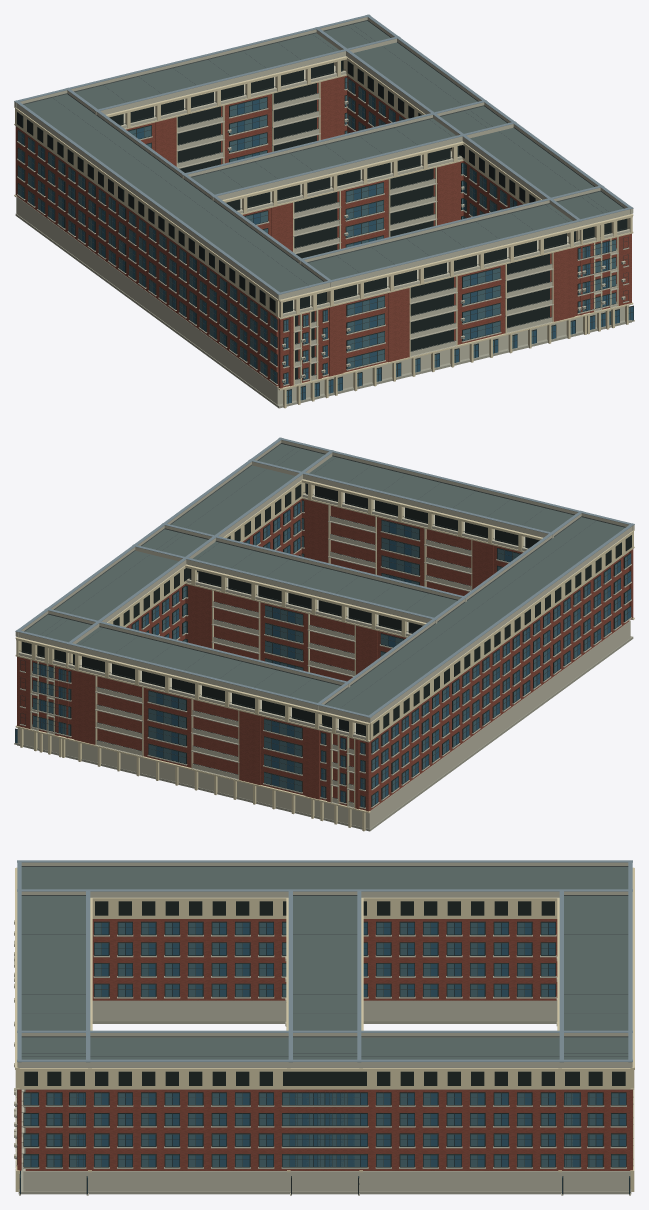
3 views of the same model, one above another, from view 1: azimuth 30°, elevation 25°; view 2: azimuth 150°, elevation 25°; view 3: azimuth 270°, elevation 25° (orthographic). The views are drawn at different scales.
Visible parts, largest first — view 1: WestWing_SetBackFlatRoofFinish, WestWing_SetBackBrickCore, EastWing_SetBackFlatRoofFinish, WestWing_SideRoom_GlassPane, NorthWing_SetBackFlatRoofFinish, MiddleWing_SetBackFlatRoofFinish, SouthWing_SetBackFlatRoofFinish, WestWing_PaleStoneGroundBody, SouthWing_BroadSolidBrickPiers, SouthWing_DeepLoggiaRearShadow, MiddleWing_DeepLoggiaRearShadow, NorthWing_DeepLoggiaRearShadow (+62 smaller); view 2: WestWing_SetBackFlatRoofFinish, WestWing_SetBackBrickCore, EastWing_SetBackFlatRoofFinish, WestWing_SideRoom_GlassPane, MiddleWing_SetBackFlatRoofFinish, NorthWing_SetBackFlatRoofFinish, SouthWing_SetBackFlatRoofFinish, WestWing_PaleStoneGroundBody, NorthWing_BroadSolidBrickPiers, NorthWing_SetBackBrickCore, NorthWing_PaleStoneGroundBody, SouthWing_SetBackBrickCore (+60 smaller); view 3: EastWing_SetBackBrickCore, WestWing_SetBackBrickCore, EastWing_SideRoom_GlassPane, WestWing_SetBackFlatRoofFinish, EastWing_SetBackFlatRoofFinish, WestWing_SideRoom_GlassPane, EastWing_PaleStoneGroundBody, SouthWing_SetBackFlatRoofFinish, MiddleWing_SetBackFlatRoofFinish, NorthWing_SetBackFlatRoofFinish, WestWing_PaleStoneGroundBody, EastWing_UpperSideIvoryWall (+50 smaller).
Boxes of the visible parts, x1,y1,x2,y2 form: WestWing_SetBackFlatRoofFinish: [24, 94, 323, 292]; WestWing_SetBackBrickCore: [16, 127, 315, 386]; EastWing_SetBackFlatRoofFinish: [325, 21, 622, 218]; WestWing_SideRoom_GlassPane: [18, 131, 276, 382]; NorthWing_SetBackFlatRoofFinish: [75, 21, 390, 109]; MiddleWing_SetBackFlatRoofFinish: [192, 106, 506, 194]; SouthWing_SetBackFlatRoofFinish: [308, 193, 623, 279]; WestWing_PaleStoneGroundBody: [16, 196, 329, 404]; SouthWing_BroadSolidBrickPiers: [331, 233, 631, 375]; SouthWing_DeepLoggiaRearShadow: [410, 253, 549, 351]; MiddleWing_DeepLoggiaRearShadow: [294, 168, 433, 258]; NorthWing_DeepLoggiaRearShadow: [177, 83, 316, 172]; WestWing_SetBackFlatRoofFinish: [325, 517, 624, 715]; WestWing_SetBackBrickCore: [333, 552, 629, 810]; EastWing_SetBackFlatRoofFinish: [26, 444, 324, 641]; WestWing_SideRoom_GlassPane: [372, 554, 630, 805]; MiddleWing_SetBackFlatRoofFinish: [142, 529, 456, 617]; NorthWing_SetBackFlatRoofFinish: [25, 614, 340, 702]; SouthWing_SetBackFlatRoofFinish: [258, 444, 573, 532]; WestWing_PaleStoneGroundBody: [318, 620, 630, 828]; NorthWing_BroadSolidBrickPiers: [17, 656, 317, 798]; NorthWing_SetBackBrickCore: [97, 676, 238, 774]; NorthWing_PaleStoneGroundBody: [17, 728, 317, 816]; SouthWing_SetBackBrickCore: [330, 506, 471, 595]; EastWing_SetBackBrickCore: [26, 1089, 630, 1170]; WestWing_SetBackBrickCore: [92, 919, 557, 1000]; EastWing_SideRoom_GlassPane: [24, 1093, 625, 1166]; WestWing_SetBackFlatRoofFinish: [21, 867, 628, 889]; EastWing_SetBackFlatRoofFinish: [21, 1037, 628, 1059]; WestWing_SideRoom_GlassPane: [94, 923, 555, 996]; EastWing_PaleStoneGroundBody: [23, 1169, 630, 1191]; SouthWing_SetBackFlatRoofFinish: [21, 896, 85, 1059]; MiddleWing_SetBackFlatRoofFinish: [293, 896, 357, 1059]; NorthWing_SetBackFlatRoofFinish: [564, 896, 628, 1059]; WestWing_PaleStoneGroundBody: [92, 1000, 557, 1021]; EastWing_UpperSideIvoryWall: [20, 1068, 630, 1089].
Bounding box in the file's own units: 76.9 × 23.56 × 99.53.
12 materials, 1 textured.
